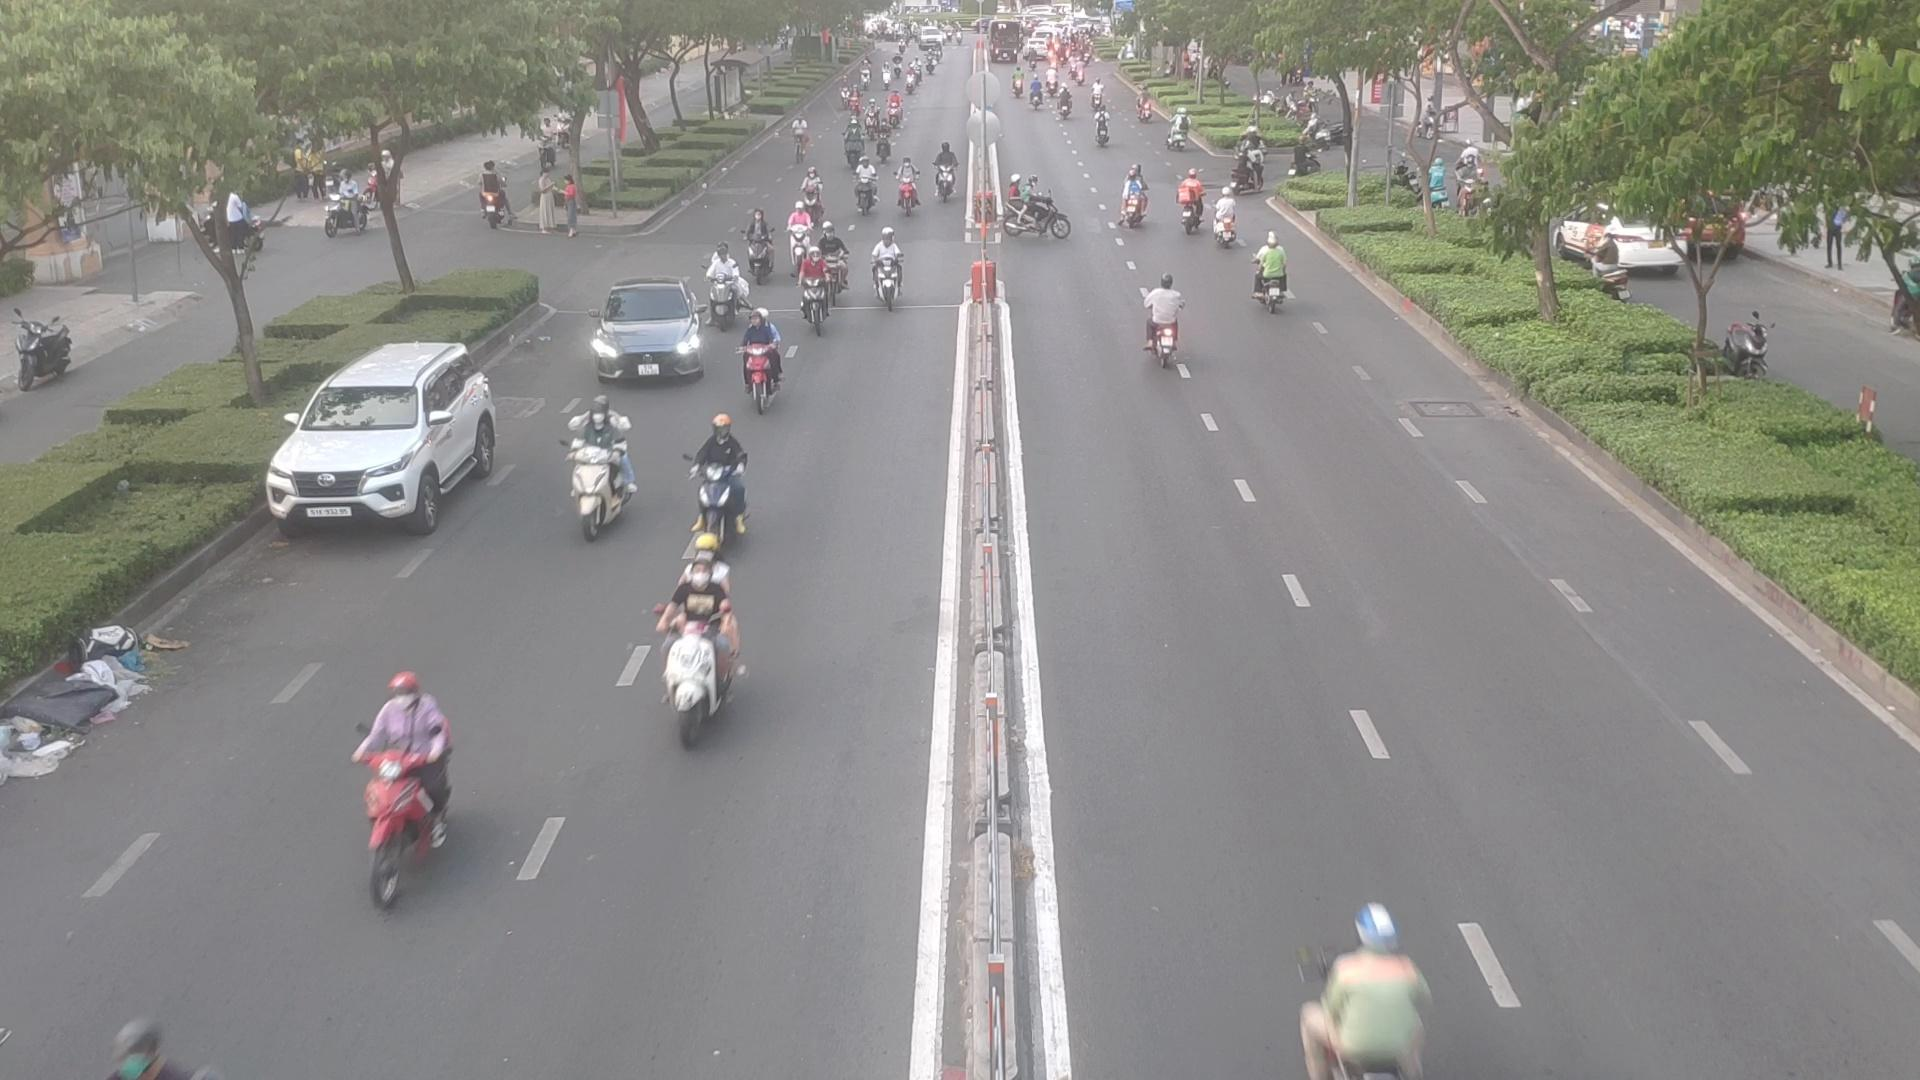car: (269, 344, 513, 535), (584, 284, 709, 382)
motorbike: (1274, 895, 1443, 1077), (338, 675, 465, 903), (632, 560, 742, 738), (568, 407, 641, 537), (1001, 175, 1077, 247), (733, 314, 791, 407), (1135, 276, 1193, 368), (1244, 239, 1296, 314), (702, 256, 750, 326), (865, 232, 907, 307), (807, 227, 852, 295), (1174, 167, 1207, 241), (1211, 187, 1247, 251), (742, 220, 775, 280), (932, 146, 965, 200), (851, 157, 880, 216), (785, 200, 808, 272), (1122, 173, 1154, 225), (895, 160, 916, 222), (800, 170, 822, 224), (876, 116, 895, 164), (844, 119, 862, 164)
